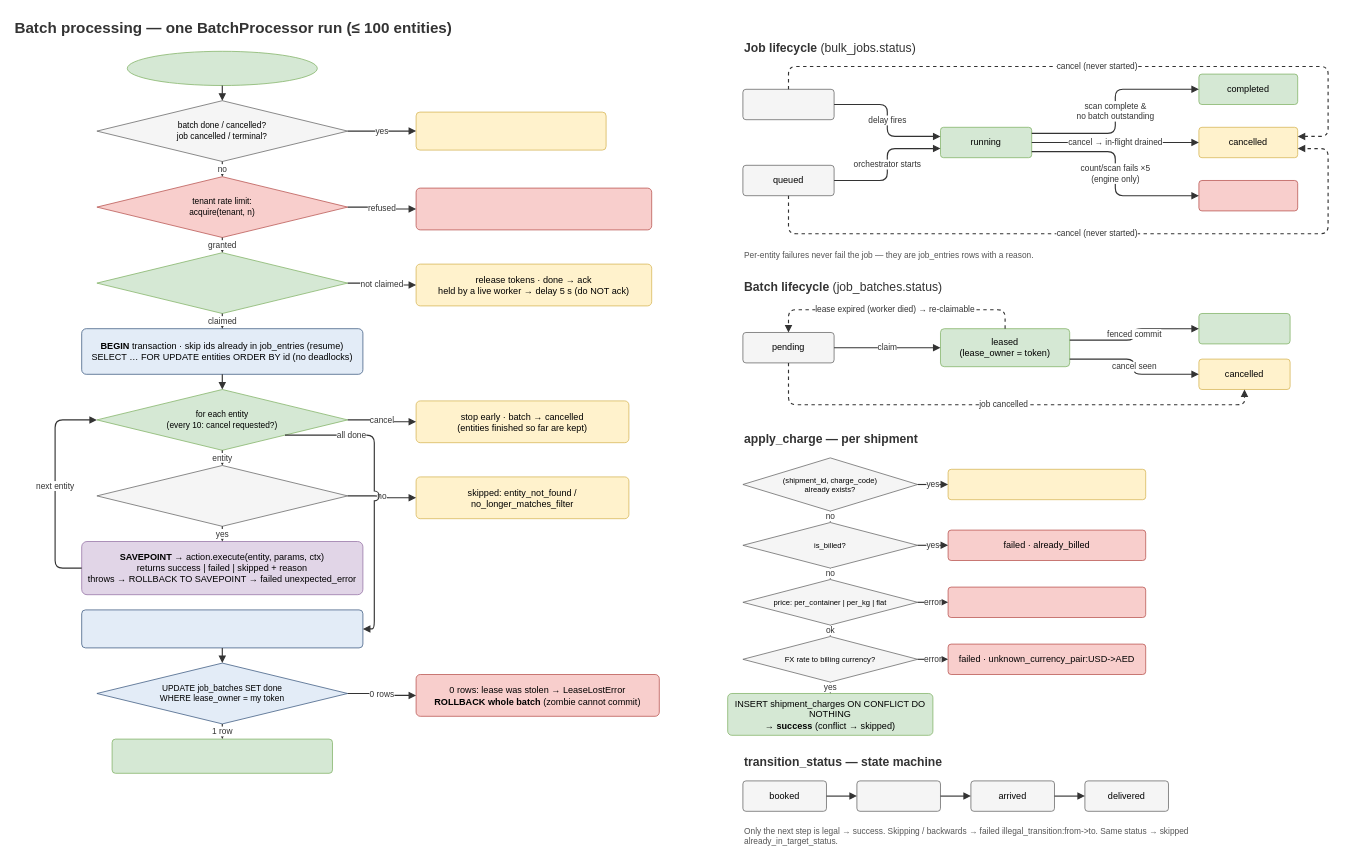
The diagram is 1347 pixels wide and 866 high, and some of its shapes have lost their labels. The centre of each missing label's shape, as x and y in pixels:
"ack (close pending batch if job cancelled)" goes at point 510,130.
"after loop: INSERT job_entries (all) · UPDATE bulk_jobs counters (once)" goes at point 222,628.
"claim lease (pending, or leased & expired)" goes at point 222,283.
"COMMIT → JobFinalizer.tryFinish(job)" goes at point 221,755.
"done" goes at point 1244,328.
"entity exists and still matches the filter?" goes at point 222,495.
"failed" goes at point 1248,195.
"failed · missing_weight / invalid_*" goes at point 1046,602.
"in_transit" goes at point 898,795.
"moveToDelayed(retryAfterMs + jitter) DelayedError — not a failure, no retry used" goes at point 533,208.
"process-batch job received" goes at point 222,68.
"scheduled" goes at point 788,104.
"skipped · charge_already_applied" goes at point 1046,484.
